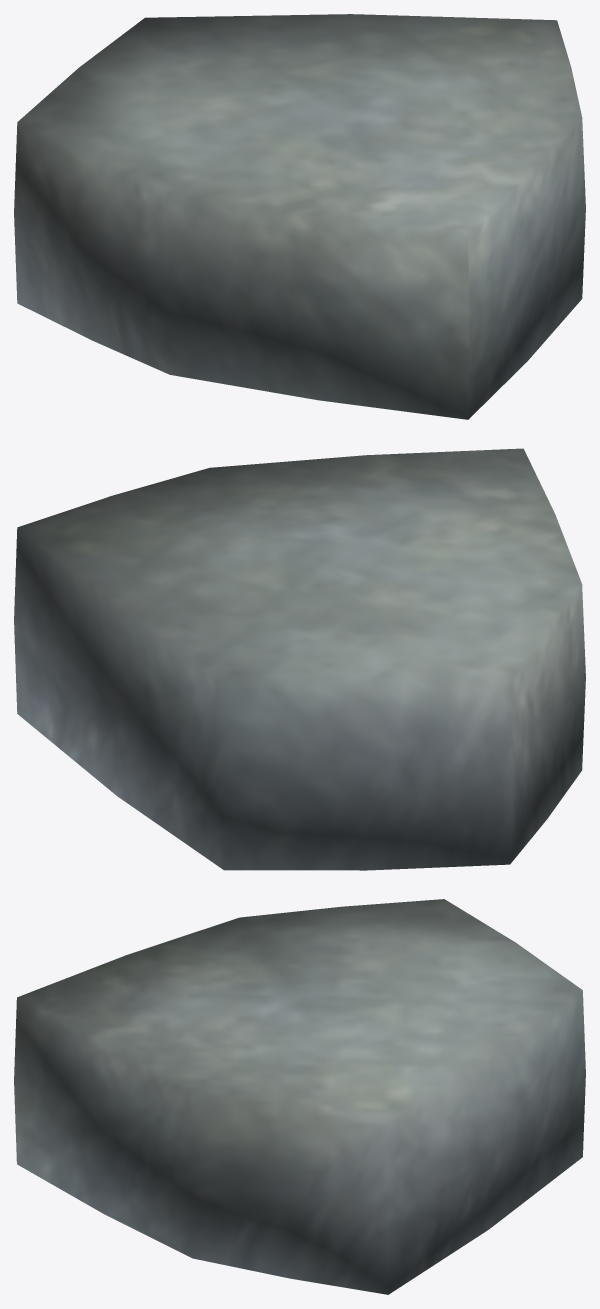
The model's file is rocks_001.fbx.
3 views of the same model, one above another, from view 1: azimuth 30°, elevation 25°; view 2: azimuth 150°, elevation 25°; view 3: azimuth 270°, elevation 25° (orthographic). The views are drawn at different scales.
Visible parts, largest first — view 1: rocks.001; view 2: rocks.001; view 3: rocks.001.
Boxes of the visible parts, x1,y1,x2,y2 form: rocks.001: (14,14,585,419); rocks.001: (14,448,585,870); rocks.001: (14,899,585,1294).
Size of the model in its own units: 57.88 by 22.26 by 60.47.
